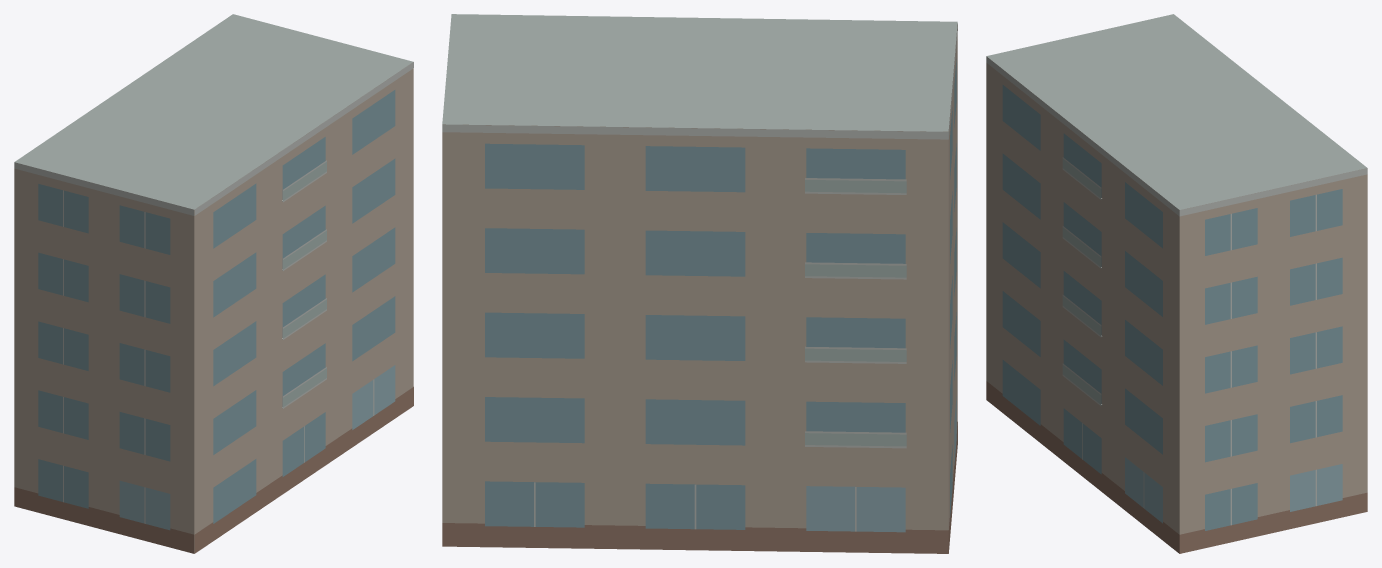
File: survey-upis-32947255.glb
3 renders of one model, left to right at view 1: azimuth 30°, elevation 25°; view 2: azimuth 150°, elevation 25°; view 3: azimuth 270°, elevation 25°, orthographic. The views are drawn at different scales.
Visible parts, largest first — view 1: survey-upis-32947255.tmp; view 2: survey-upis-32947255.tmp; view 3: survey-upis-32947255.tmp.
Part boxes in pixels (box(x1,y1,x2,y2)): survey-upis-32947255.tmp: box(14, 14, 413, 553); survey-upis-32947255.tmp: box(442, 14, 957, 553); survey-upis-32947255.tmp: box(986, 14, 1367, 553).
Bounding box in the file's own units: 16.1 × 13.15 × 13.23.
